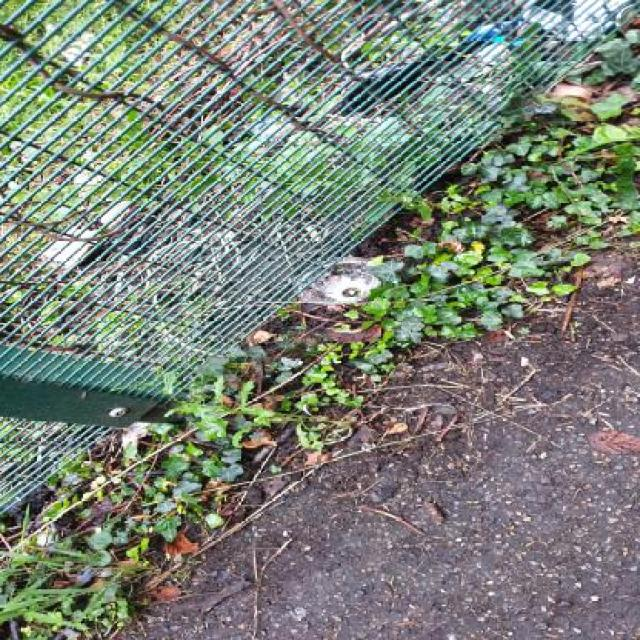plastic: (293, 257, 382, 306)
